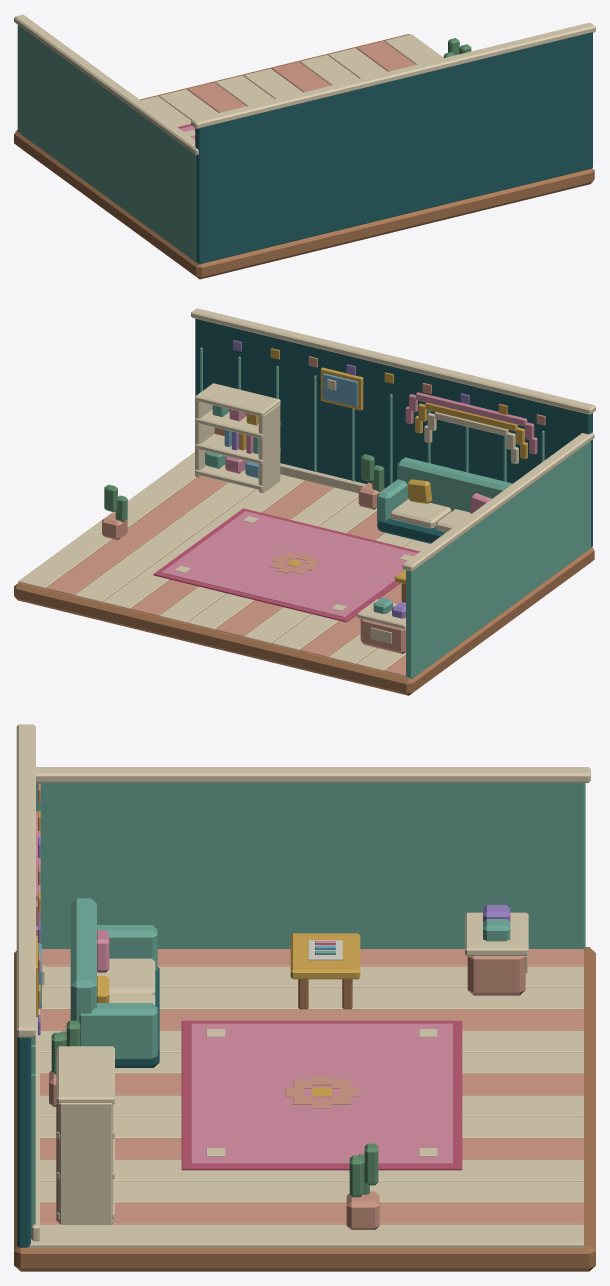
The model's file is room.glb.
3 renders of one model, top to bottom at view 1: azimuth 30°, elevation 25°; view 2: azimuth 150°, elevation 25°; view 3: azimuth 270°, elevation 25°, orthographic. The views are drawn at different scales.
Visible parts, largest first — view 1: Playroom; view 2: Playroom; view 3: Playroom.
Boxes of the visible parts, bbox=[...] form: Playroom: bbox=[14, 14, 595, 279]; Playroom: bbox=[14, 308, 595, 695]; Playroom: bbox=[14, 724, 595, 1271].
Size of the model in its own units: 10.55 by 3.97 by 8.5.
